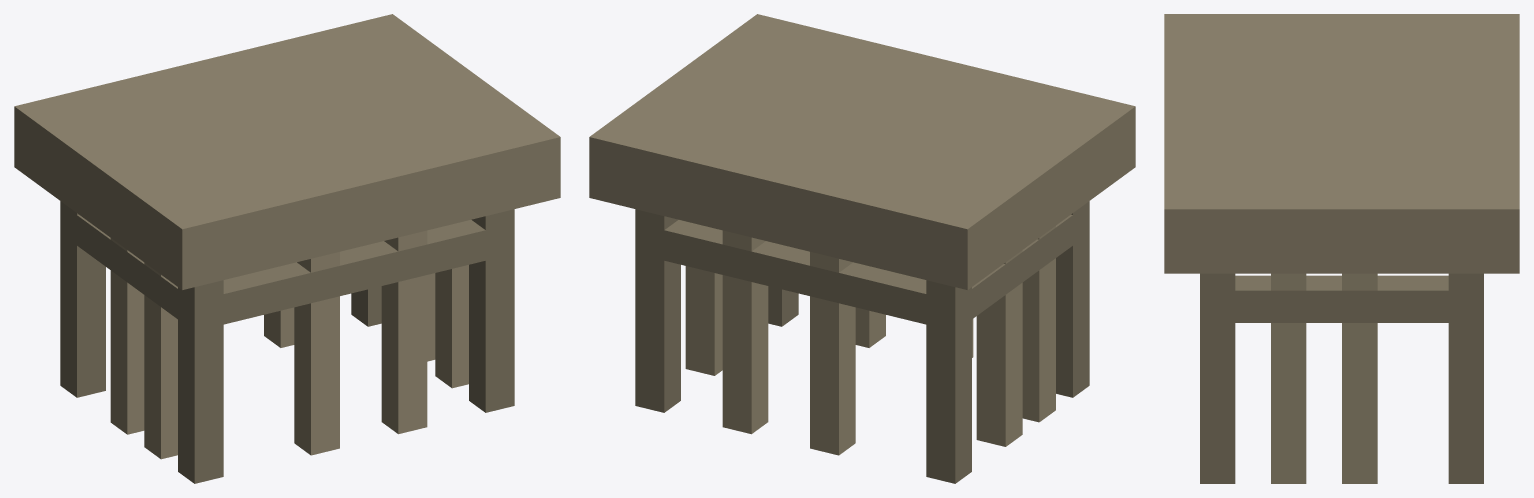
The model's file is gallinero_jaula_02.glb.
The picture shows the model from 3 angles, left to right: view 1: azimuth 30°, elevation 25°; view 2: azimuth 150°, elevation 25°; view 3: azimuth 270°, elevation 25°; orthographic projection. The views are drawn at different scales.
Visible parts, largest first — view 1: gallinero_jaula_02; view 2: gallinero_jaula_02; view 3: gallinero_jaula_02.
Boxes of the visible parts, x1,y1,x2,y2 form: gallinero_jaula_02: [14, 14, 560, 483]; gallinero_jaula_02: [589, 14, 1135, 483]; gallinero_jaula_02: [1164, 14, 1519, 483].
Size of the model in its own units: 1.3 by 0.9 by 1.
